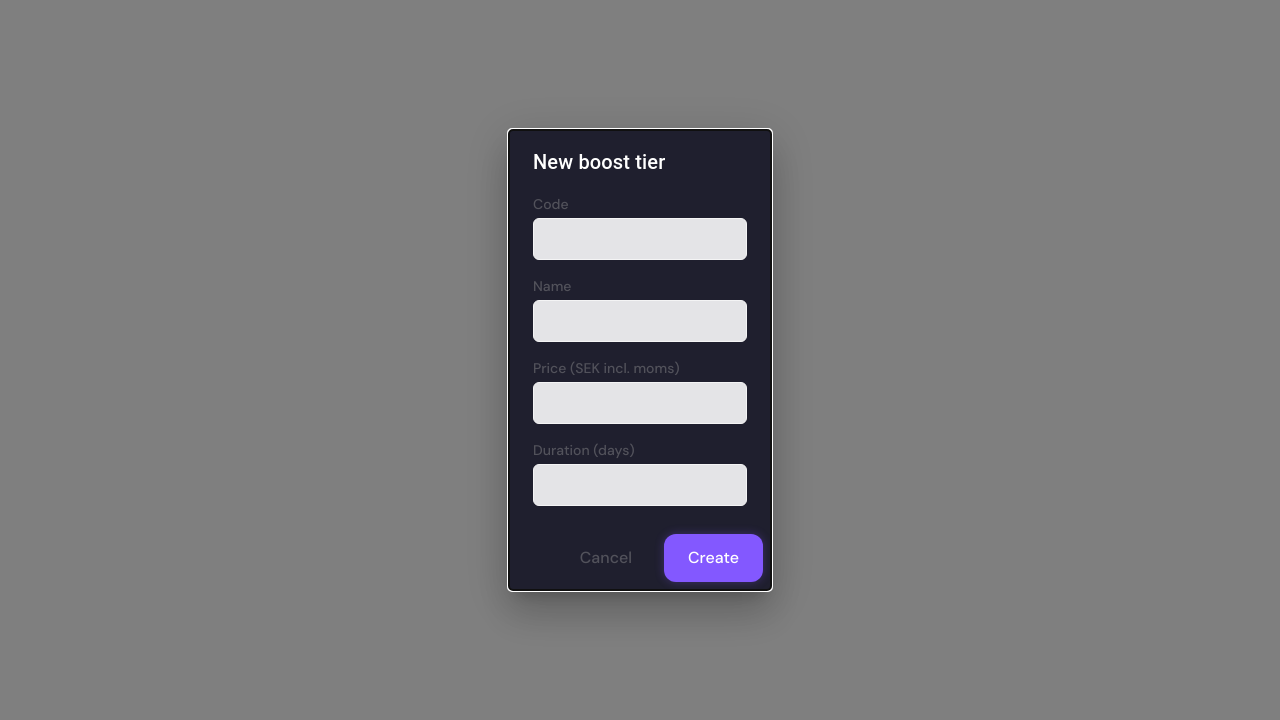
Scenario: BoostTierFormDialog › shows the response message for a non-success envelope
In the field labelled "Code": (640, 239) [533,218,747,260], type "boost"
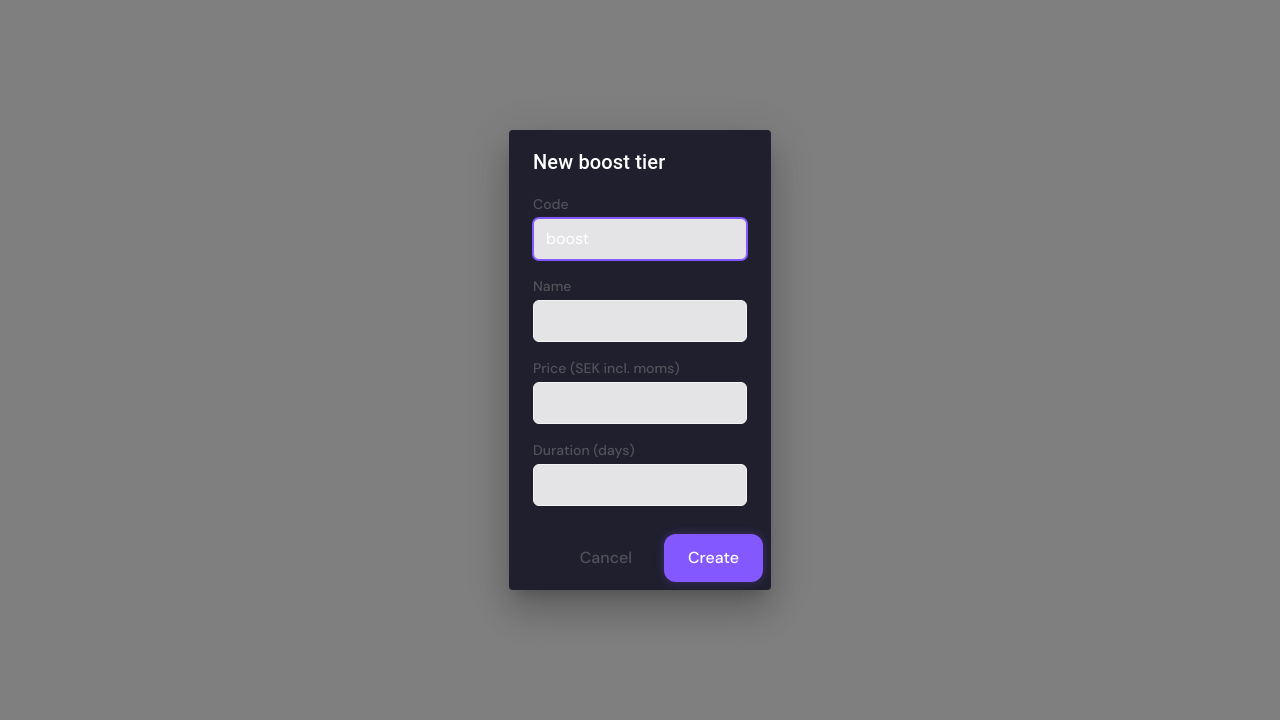
In the field labelled "Name": (640, 321) [533,300,747,342], type "Boost"
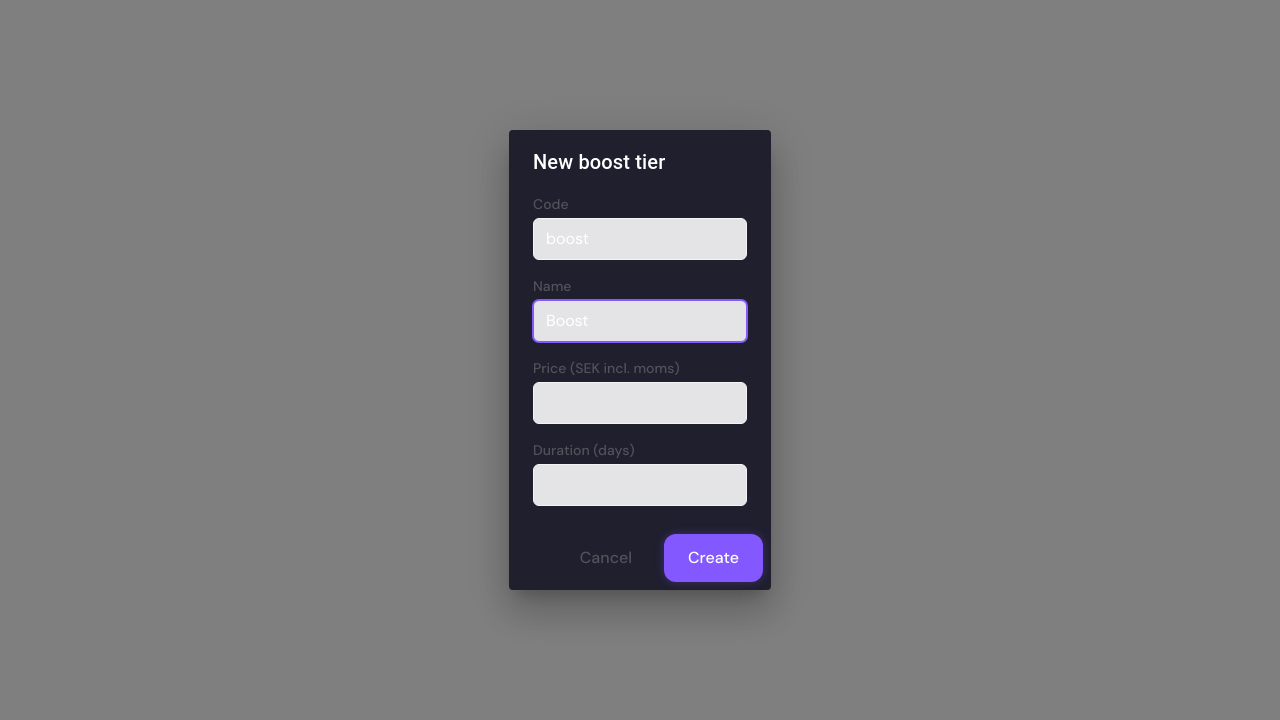
In the field labelled "Price (SEK incl. moms)": (640, 403) [533,382,747,424], type "49"
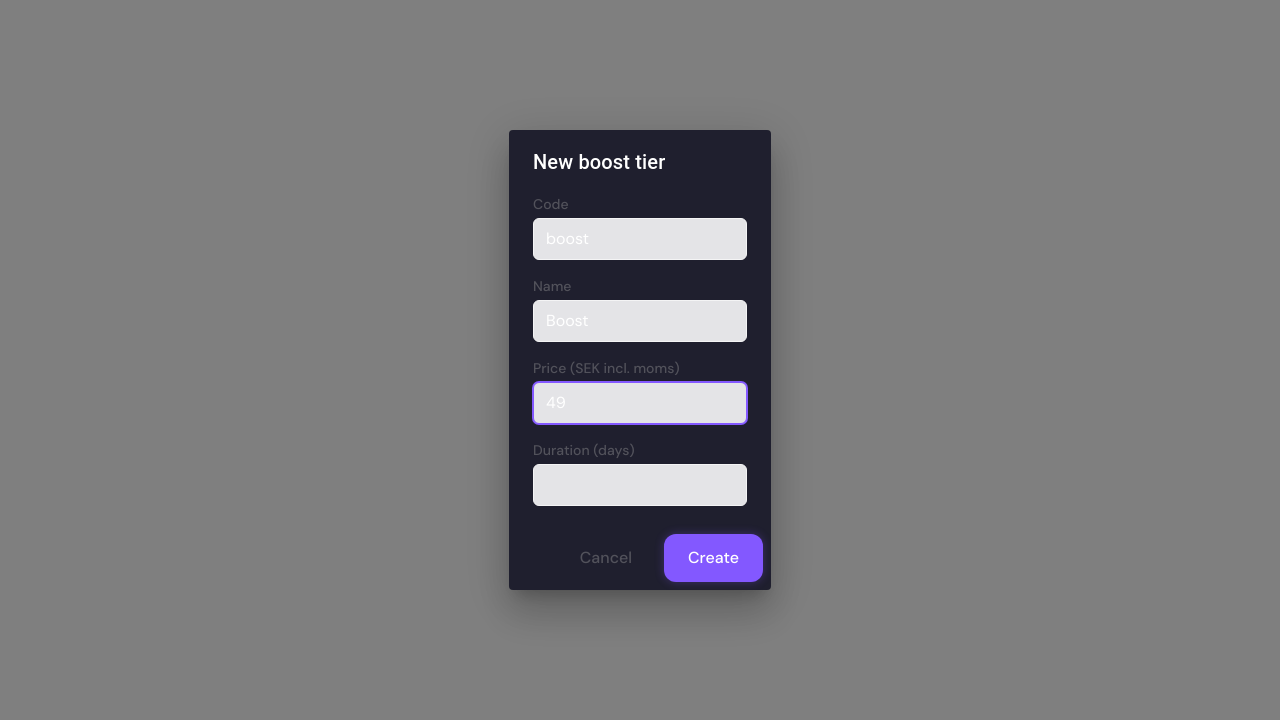
In the field labelled "Duration (days)": (640, 485) [533,464,747,506], type "7"
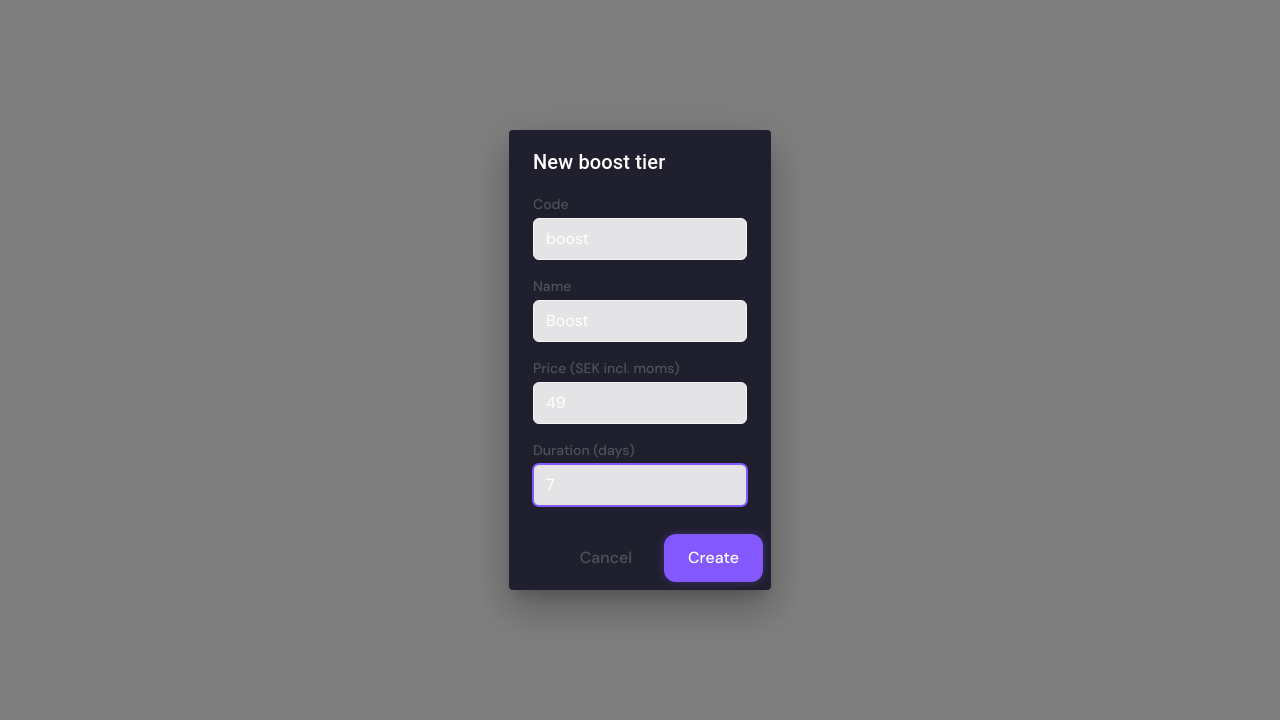
Click the button "Create": (714, 558) [664,534,763,582]
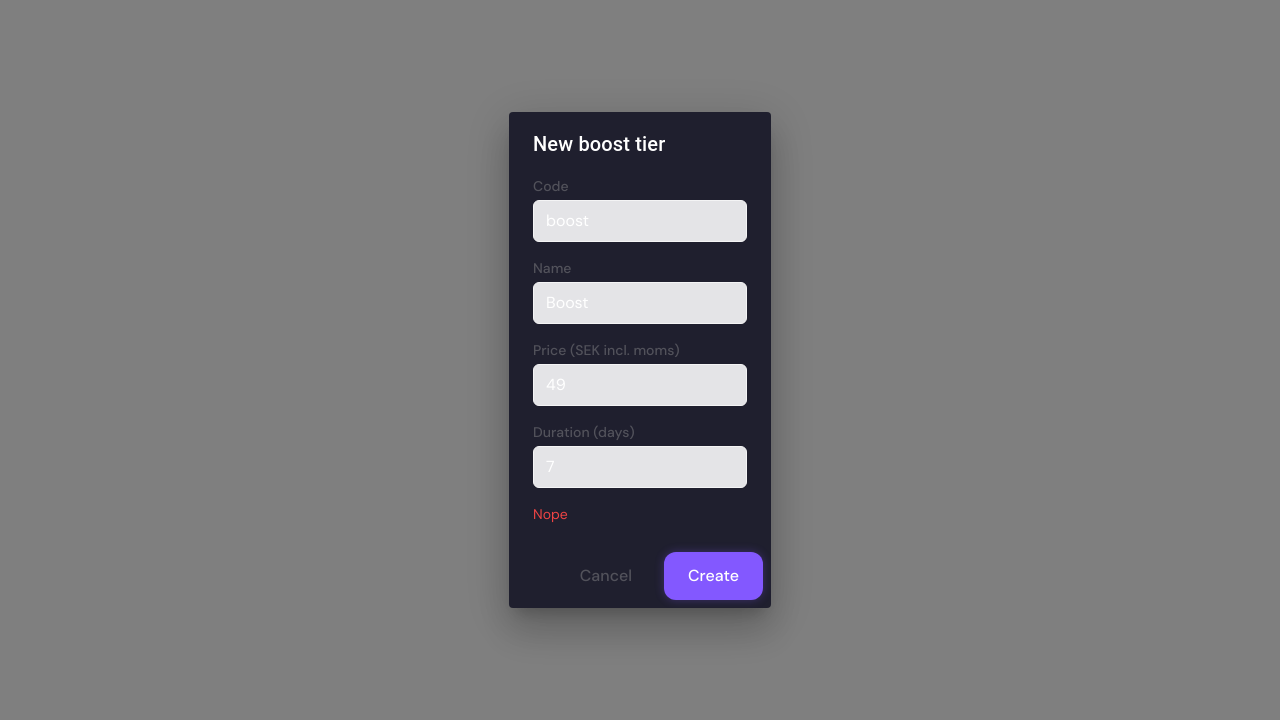
expect the message reads "Nope": met, box [533,505,568,523]
